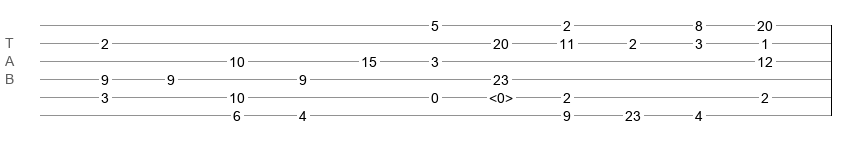0: (431, 90, 439, 100)
1: (761, 36, 769, 46)
10: (229, 54, 245, 64), (229, 90, 245, 100)
11: (559, 36, 575, 46)
12: (757, 54, 773, 64)
15: (361, 54, 377, 64)
2: (101, 36, 109, 46), (563, 18, 571, 28), (563, 90, 571, 100), (629, 36, 637, 46), (761, 90, 769, 100)
20: (493, 36, 509, 46), (757, 18, 773, 28)
23: (493, 72, 509, 82), (625, 108, 641, 118)
3: (101, 90, 109, 100), (431, 54, 439, 64), (695, 36, 703, 46)
4: (299, 108, 307, 118), (695, 108, 703, 118)
5: (431, 18, 439, 28)
6: (233, 108, 241, 118)
8: (695, 18, 703, 28)
9: (101, 72, 109, 82), (167, 72, 175, 82), (299, 72, 307, 82), (563, 108, 571, 118)
harmonic: (489, 90, 513, 100)
